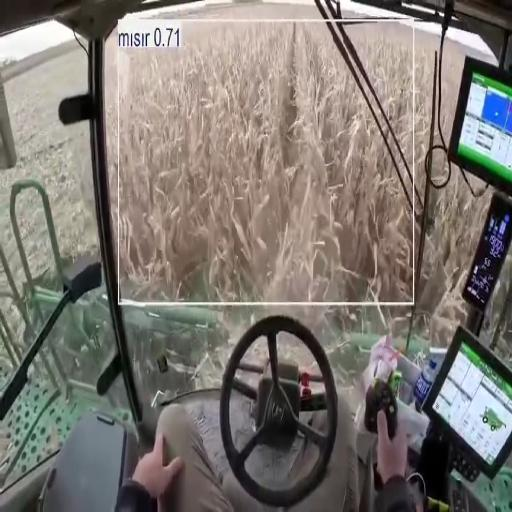misir: (108, 22, 411, 300), (353, 25, 412, 160)
